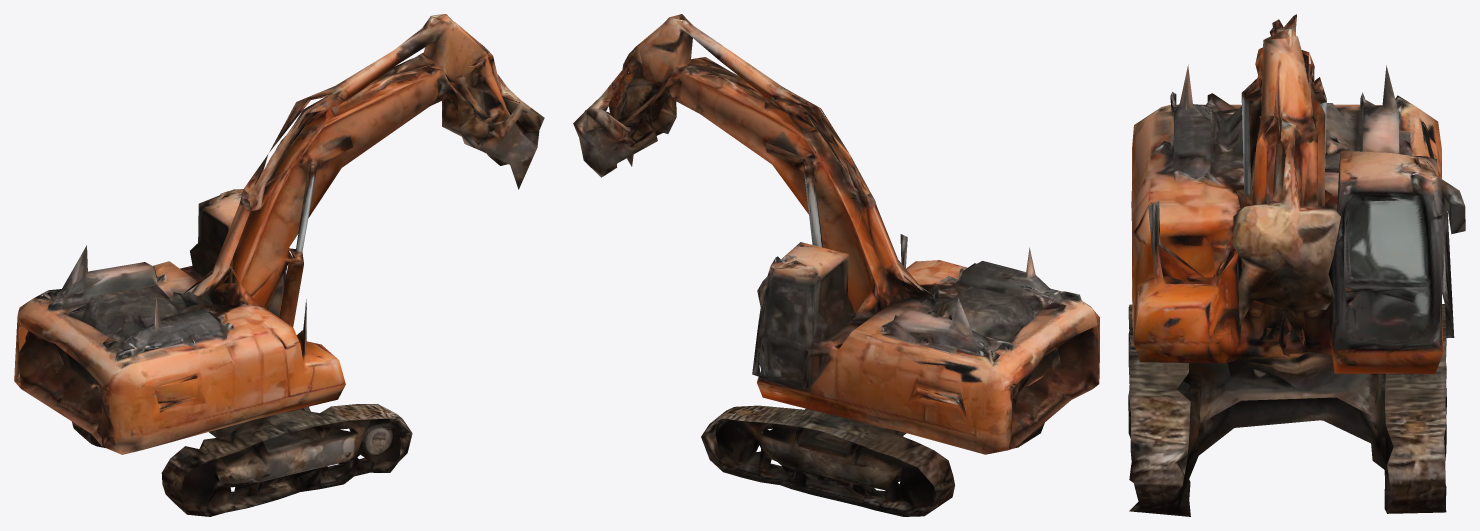
Rendered from qr_excavator2.glb.
3 renders of one model, left to right at view 1: azimuth 30°, elevation 25°; view 2: azimuth 150°, elevation 25°; view 3: azimuth 270°, elevation 25°, orthographic. The views are drawn at different scales.
Visible parts, largest first — view 1: tripo_node_adb2a75e-46f1-4886-bcb2-2b6a977e7f15; view 2: tripo_node_adb2a75e-46f1-4886-bcb2-2b6a977e7f15; view 3: tripo_node_adb2a75e-46f1-4886-bcb2-2b6a977e7f15.
Part boxes in pixels (x1,y1,x2,y2): tripo_node_adb2a75e-46f1-4886-bcb2-2b6a977e7f15: [14, 14, 544, 516]; tripo_node_adb2a75e-46f1-4886-bcb2-2b6a977e7f15: [573, 14, 1099, 516]; tripo_node_adb2a75e-46f1-4886-bcb2-2b6a977e7f15: [1128, 14, 1465, 516].
Bounding box in the file's own units: 0.9787 × 0.7859 × 0.4327.
1 material, 1 textured.
